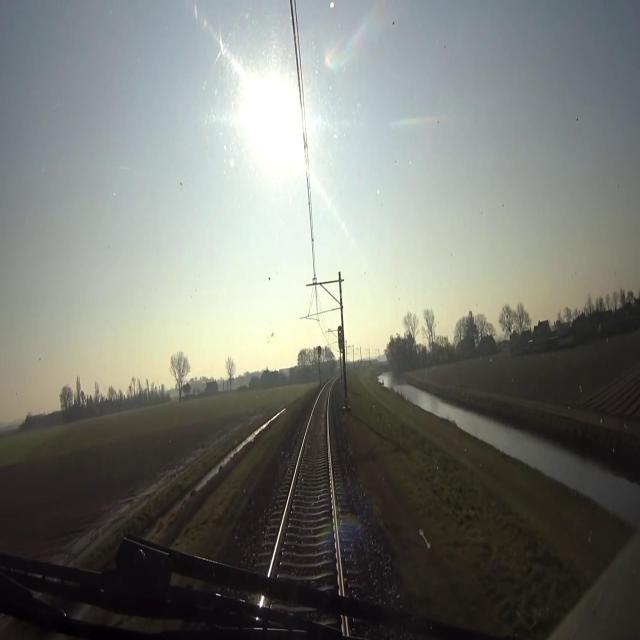rail-track: (272, 385, 341, 599)
